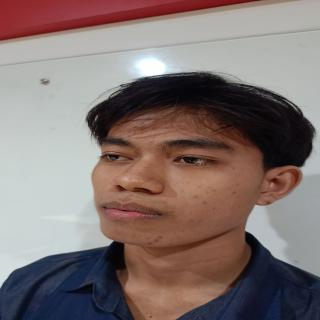Netral: (84, 97, 272, 255)
